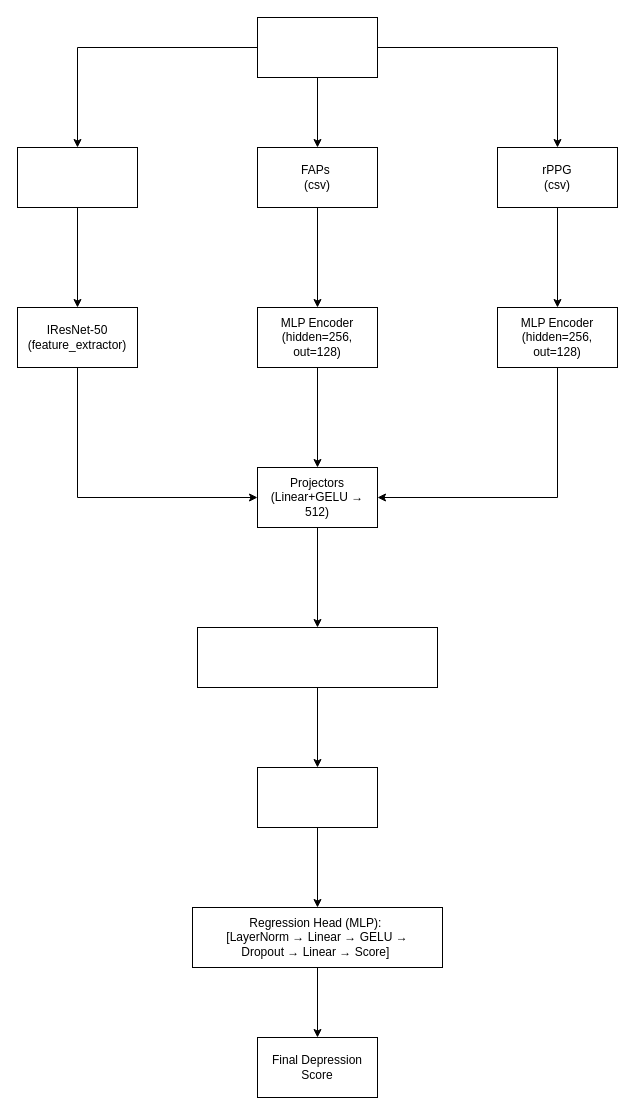
Some shapes in this 635 by 1115 pixel diagram are drawn without their labels. Here are the shapes that lost their labels. From the top down, the centre of each, then its label:
the point at 317,47: Input Data
the point at 77,177: Frames_align (images)
the point at 317,657: Cross-Modal Transformer (attn_heads × attn_layers)
the point at 317,797: Mean Pooling across Modalities
